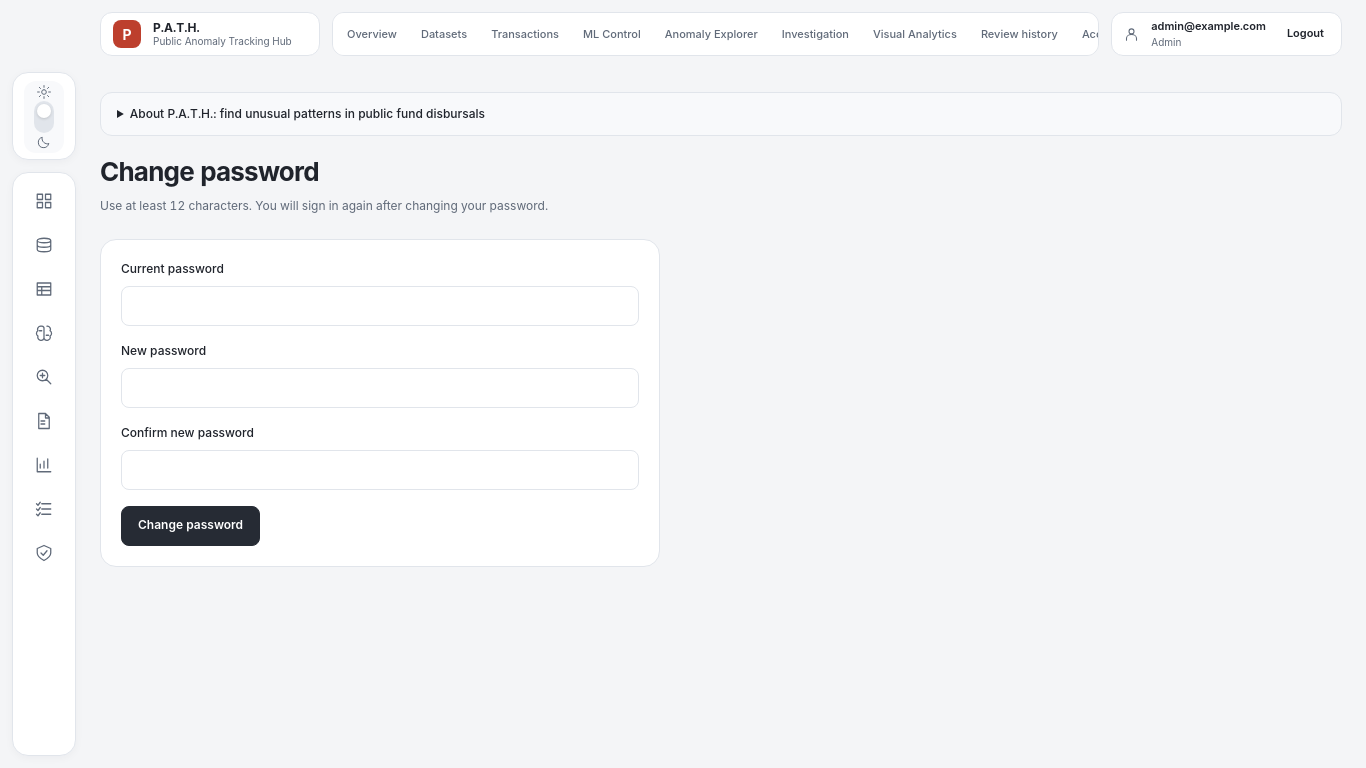
Test case: real application flows with mocked HTTP boundaries › forces a reset user to change password and returns to sign in
The width and height of the screenshot is (1366, 768).
Expected: the heading "Change password" is shown, [100, 156, 319, 187]
Type "old-test-password!" into the password field labelled "Current password" at (380, 306), box [121, 286, 639, 326]
Type "new-test-password!" into the password field labelled "New password" at (380, 388), box [121, 368, 639, 408]
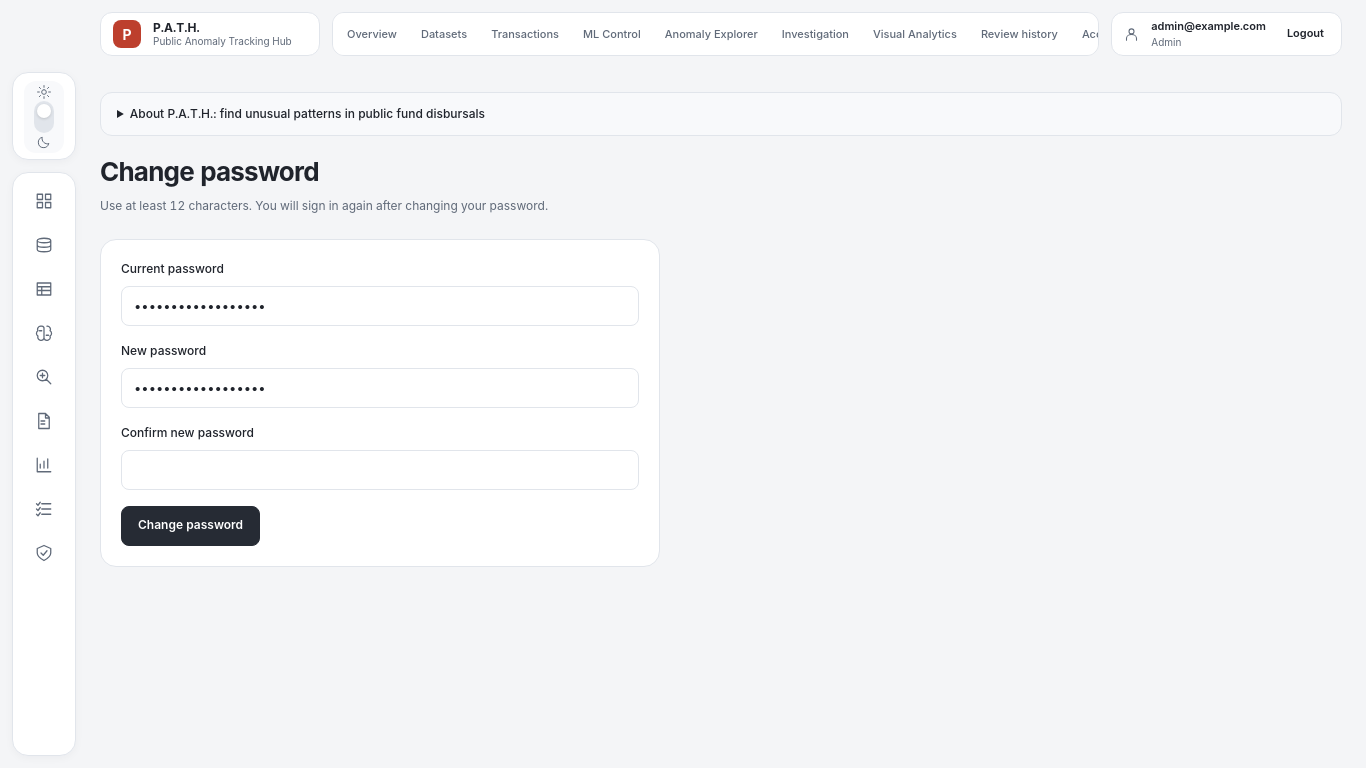
Type "different-password!" into the password field labelled "Confirm new password" at (380, 470), box [121, 450, 639, 490]
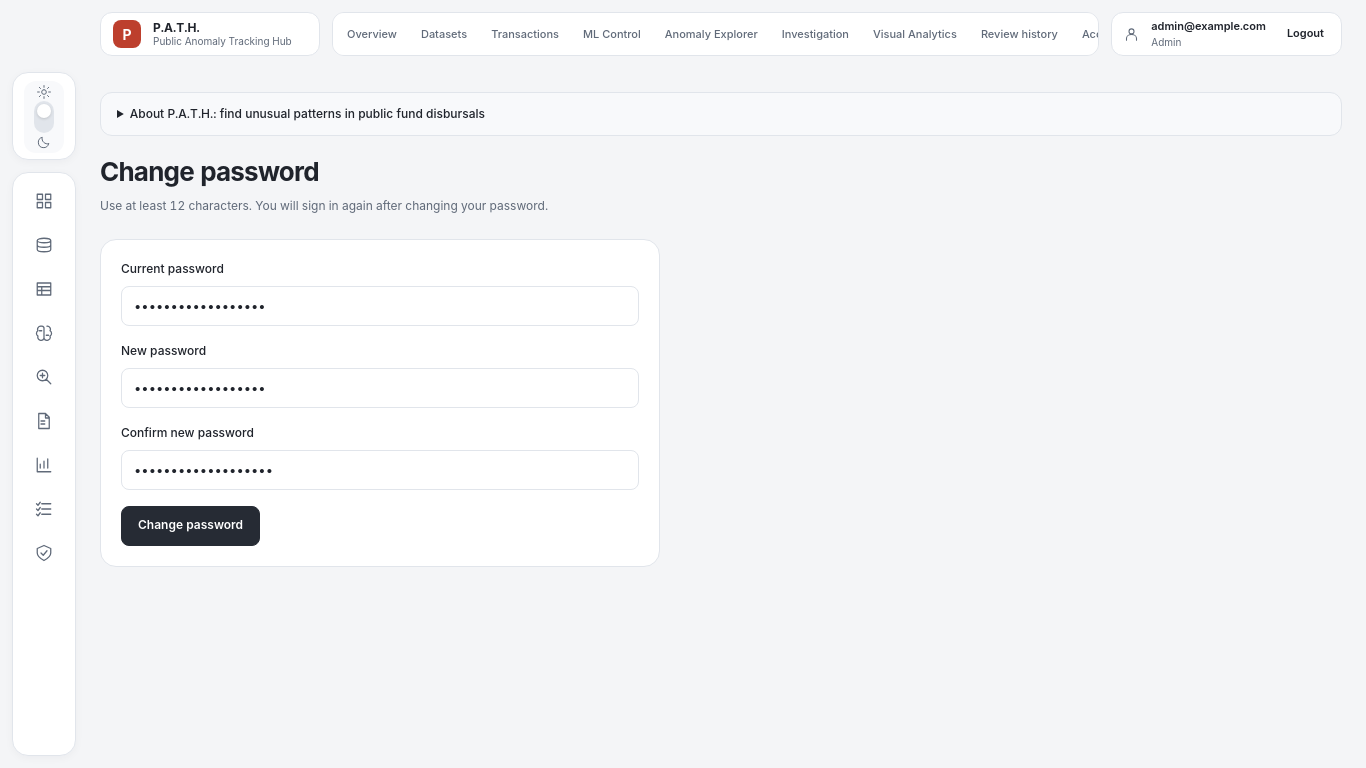
Submit the form "Change password", box [121, 260, 639, 546]
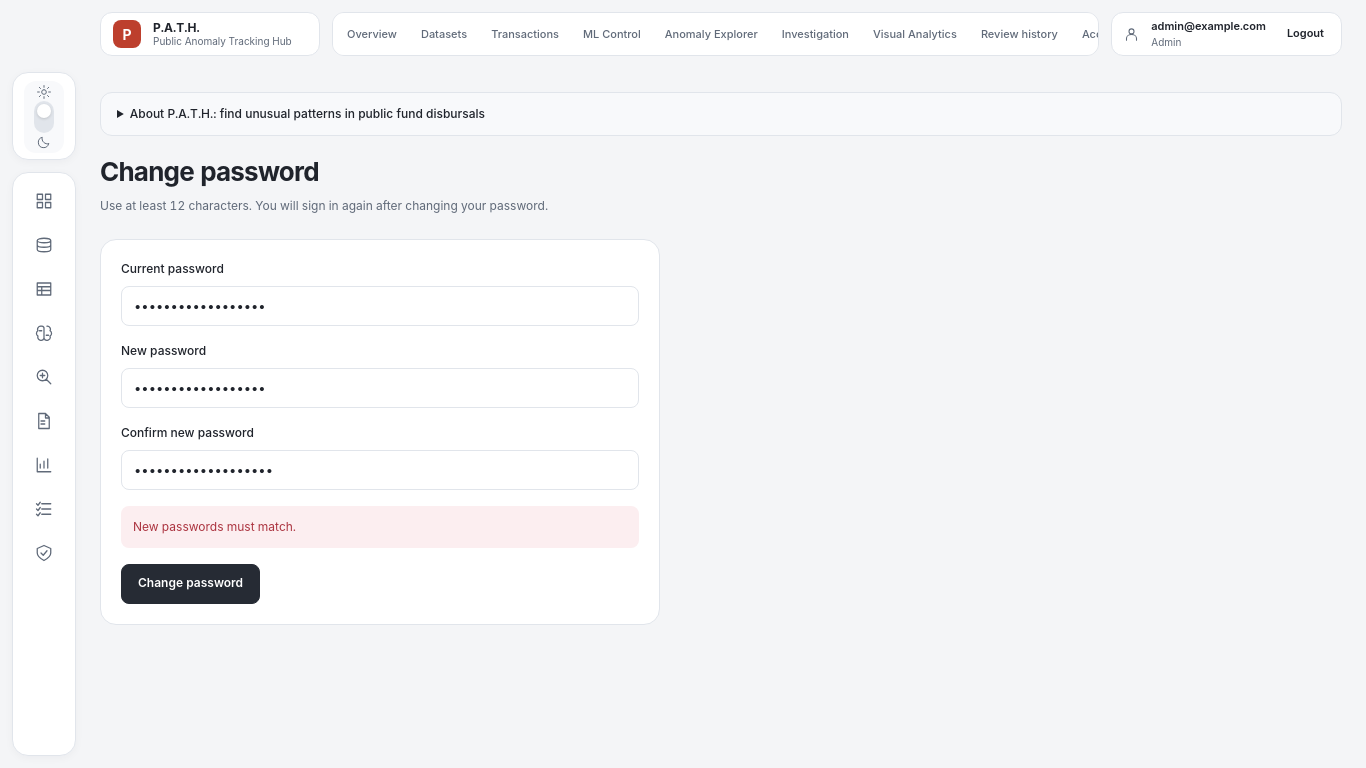
Now the message reads "New passwords must match.", box [133, 518, 296, 534]
Type "new-test-password!" into the password field labelled "Confirm new password" at (380, 470), box [121, 450, 639, 490]
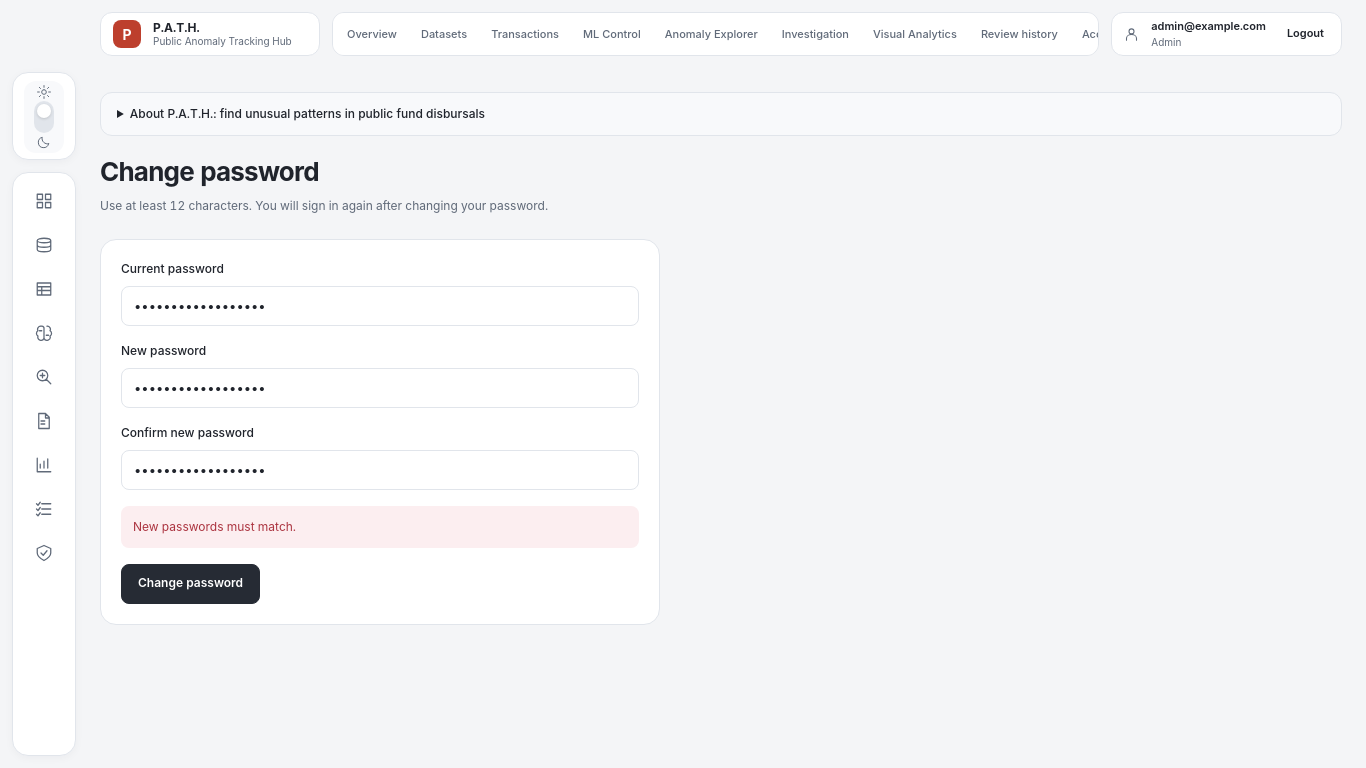
Submit the form named "Change password", box [121, 260, 639, 604]
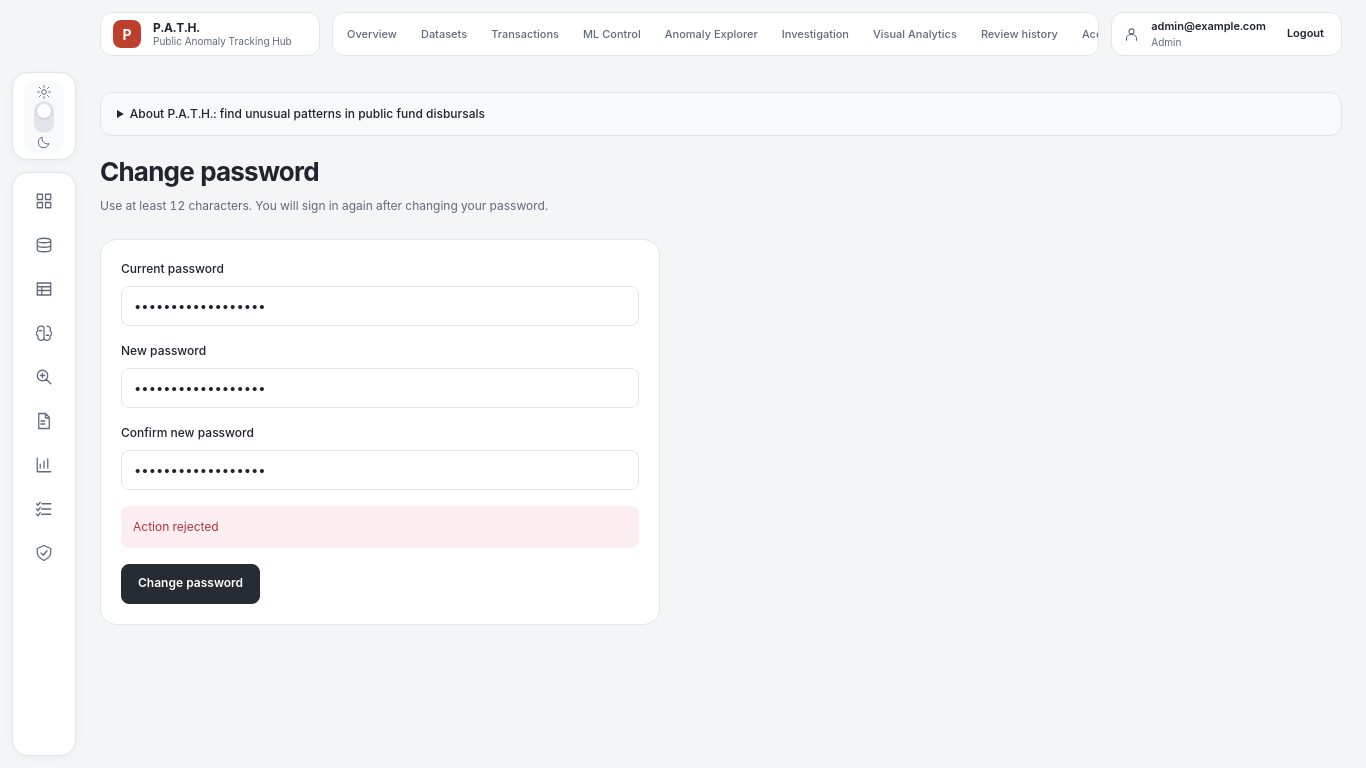
Now the text "Action rejected" is shown, box [121, 506, 639, 548]
Submit the form named "Change password", box [121, 260, 639, 604]
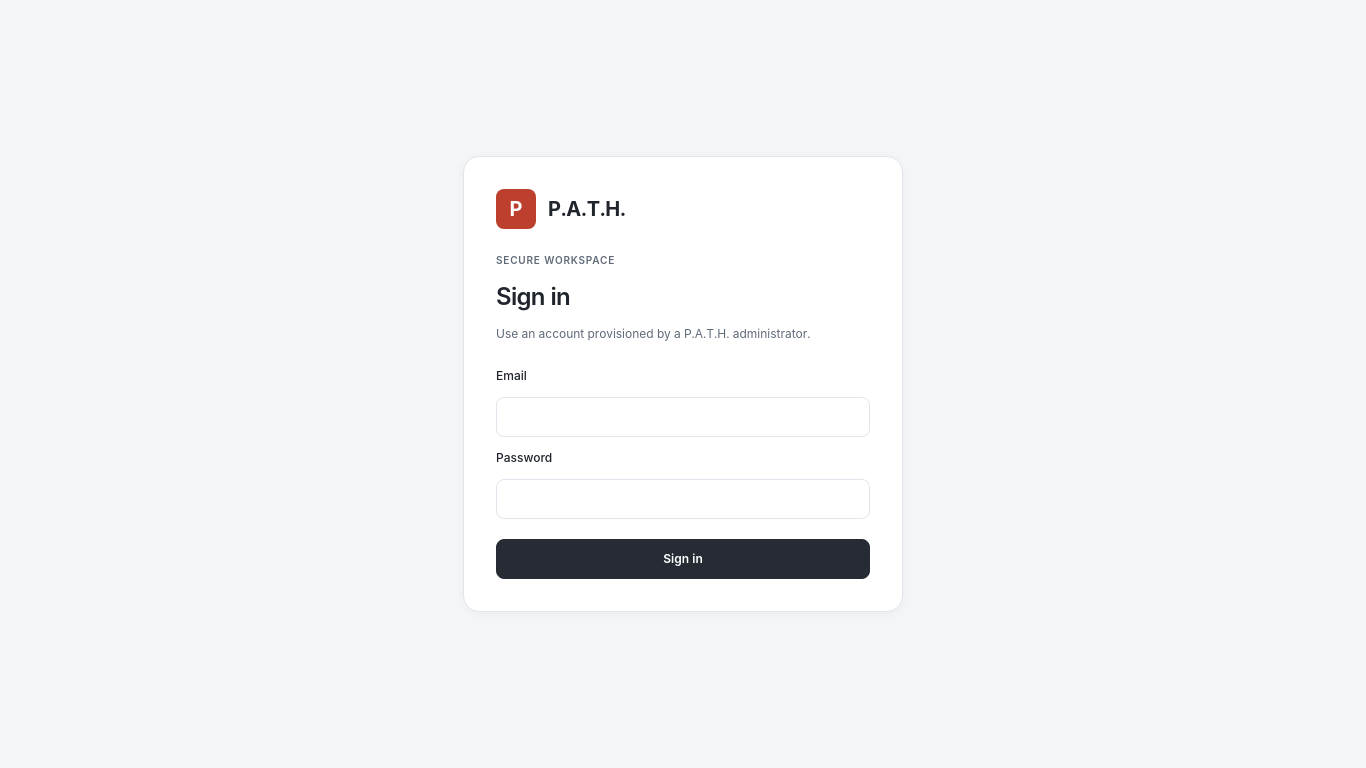
Now the heading "Sign in" is shown, box [496, 282, 570, 311]
